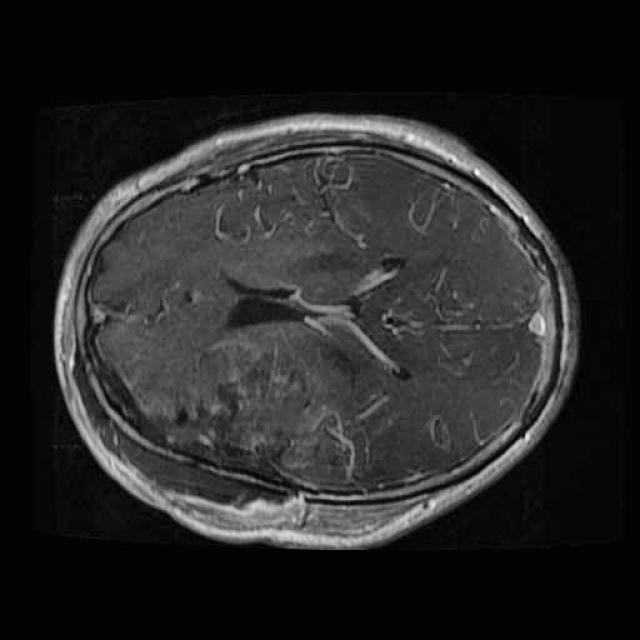Non-Tumor: (145, 342, 368, 512)
